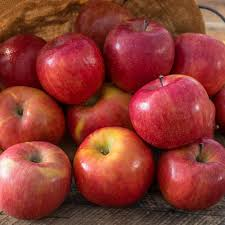apple: (70, 136, 157, 205), (106, 19, 178, 91), (133, 79, 213, 140), (40, 26, 103, 103), (4, 146, 69, 217), (162, 144, 225, 206), (164, 32, 225, 92), (1, 89, 61, 146), (72, 95, 132, 142), (2, 34, 39, 79)
